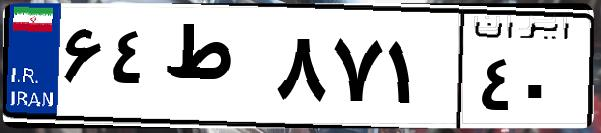0: (525, 38, 570, 115)
1: (385, 28, 445, 110)
4: (475, 38, 525, 113), (110, 28, 158, 98)
6: (57, 26, 110, 100)
7: (330, 28, 385, 110)
8: (270, 28, 330, 110)
ط: (158, 20, 270, 120)
